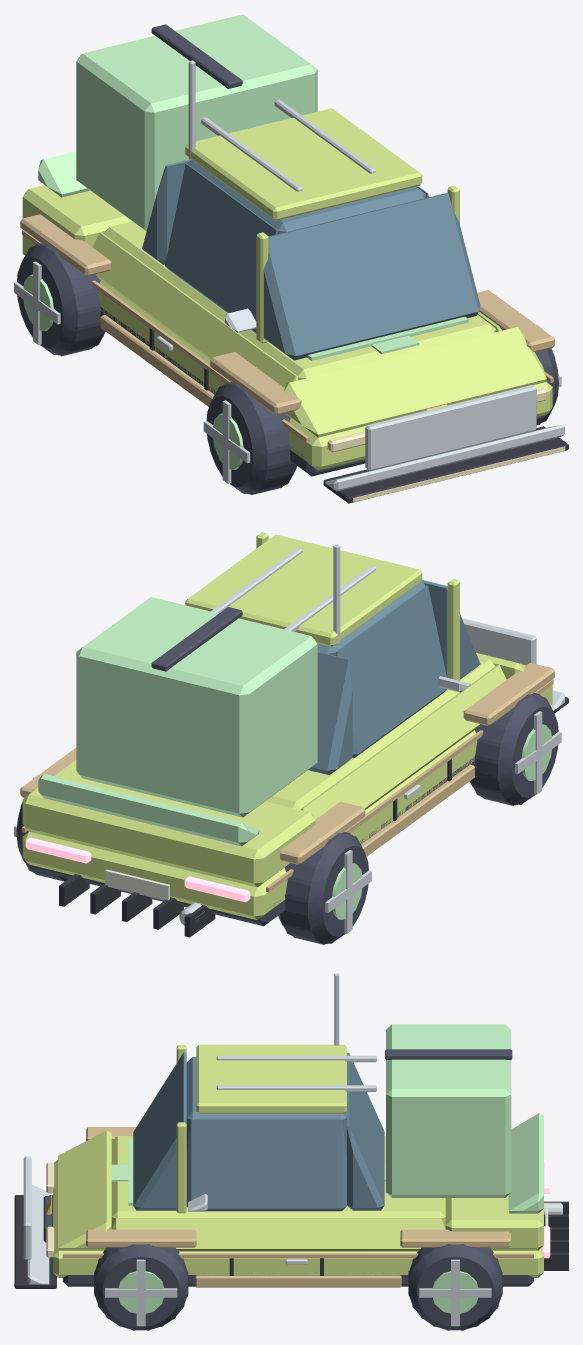
Rendered from brickhouse_bus.fbx.
The picture shows the model from 3 angles, top to bottom: view 1: azimuth 30°, elevation 25°; view 2: azimuth 150°, elevation 25°; view 3: azimuth 270°, elevation 25°; orthographic projection. The views are drawn at different scales.
Parts seen in each view (by area): view 1: Body, Glass, Accent3, Metal, Accent, Accent2, Wheel_FR, Wheel_RR, Trim, Trim2, Light, Metal2 (+1 smaller); view 2: Body, Accent3, Glass, Accent, Wheel_RR, Wheel_FR, Metal, Trim, Trim2, Accent2, Light2, Metal2 (+1 smaller); view 3: Body, Glass, Accent3, Accent, Wheel_FL, Wheel_RL, Accent2, Metal, Trim, Trim2, Metal2, Light (+1 smaller).
Part boxes in pixels (box(x1,y1,x2,y2)): Body: box(22, 108, 552, 470); Glass: box(142, 159, 480, 360); Accent3: box(38, 14, 468, 360); Metal: box(14, 261, 561, 483); Accent: box(20, 214, 554, 442); Accent2: box(188, 60, 564, 491); Wheel_FR: box(206, 382, 297, 494); Wheel_RR: box(17, 243, 105, 356); Trim: box(149, 328, 568, 503); Trim2: box(100, 24, 545, 476); Light: box(327, 387, 565, 502); Metal2: box(23, 274, 243, 469); Body: box(22, 532, 552, 920); Accent3: box(38, 597, 317, 846); Glass: box(308, 580, 480, 775); Accent: box(20, 663, 554, 892); Wheel_RR: box(278, 832, 368, 944); Wheel_FR: box(470, 693, 558, 805); Metal: box(14, 618, 561, 933); Trim: box(59, 697, 568, 937); Trim2: box(30, 607, 474, 926); Accent2: box(211, 544, 564, 710); Light2: box(25, 837, 250, 902); Metal2: box(332, 724, 551, 919); Body: box(53, 1044, 543, 1277); Glass: box(133, 1052, 384, 1211); Accent3: box(128, 1024, 543, 1213); Accent: box(62, 1127, 533, 1287); Wheel_FL: box(94, 1244, 188, 1330); Wheel_RL: box(408, 1244, 502, 1330); Accent2: box(27, 973, 376, 1284); Metal: box(23, 1156, 562, 1326); Trim: box(14, 1195, 568, 1288); Trim2: box(43, 1049, 533, 1286); Metal2: box(118, 1271, 478, 1313); Light: box(14, 1162, 54, 1286).
Size of the model in its own units: 3 by 2.97 by 5.54.
